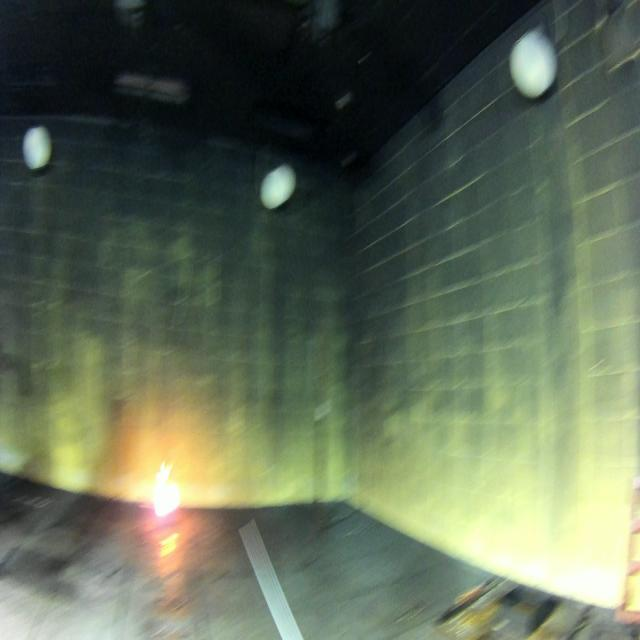Fire: (153, 458, 180, 518)
